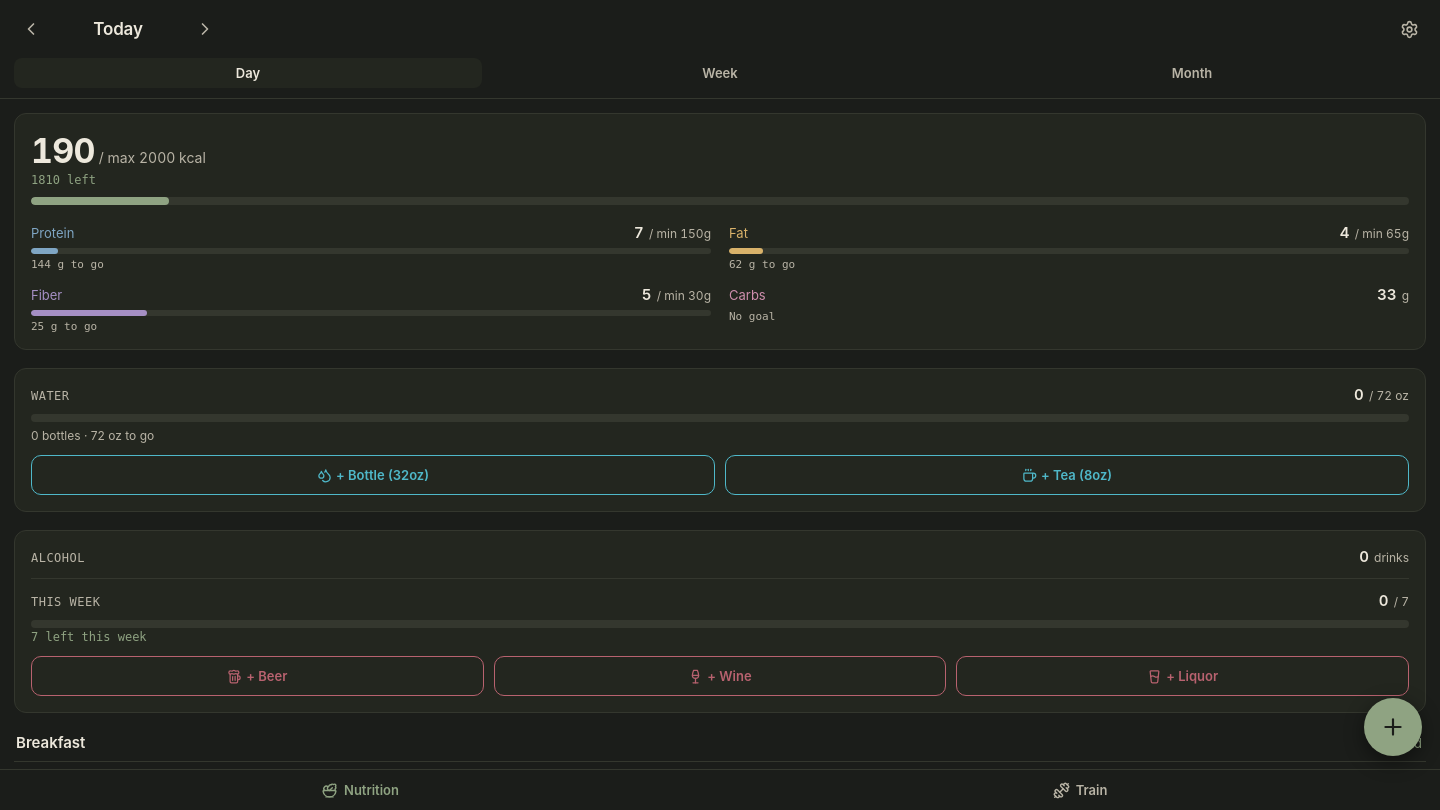
App › tries a read again when it gets no reply, so one dropped request is never seen
Click the button named "Settings".
click(1409, 29)  # box [1390, 10, 1428, 48]
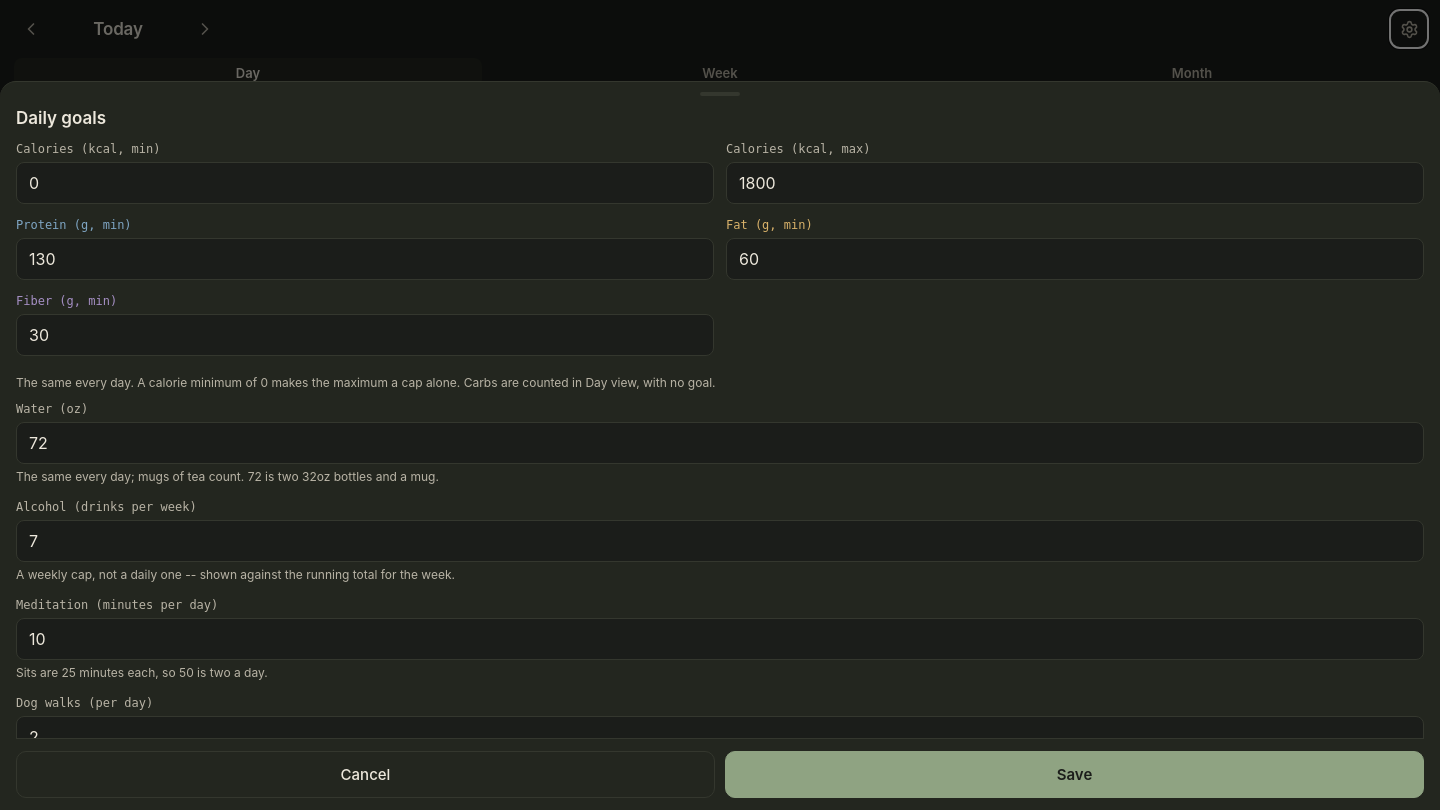
expect the field labelled "Protein (g, min)" holds "130": met, box [16, 238, 714, 280]
